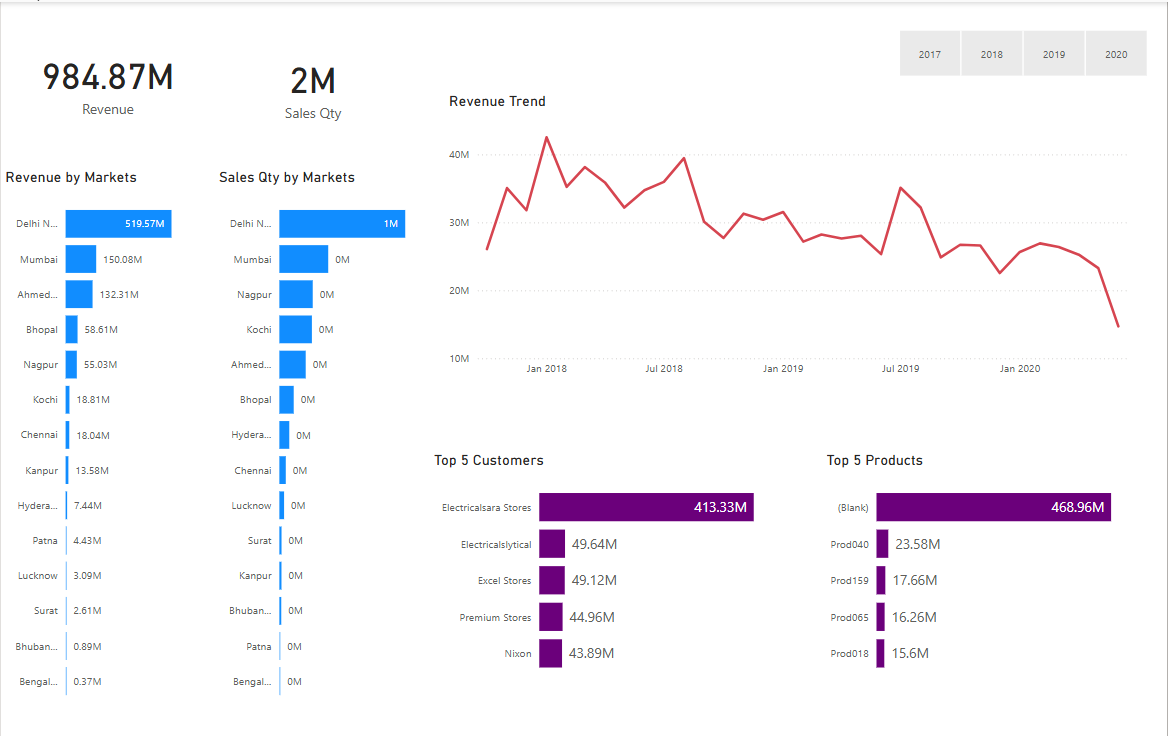

What the dashboard file says about the page in this screenshot:
{"tool":"powerbi","page":{"name":"Page 1","canvas":[1350,850],"ordinal":0},"visuals":[{"type":"card","fields":{"Values":["BaseMeasures (2).Revenue"]},"box":[0,0,247.9,184.6],"z":0},{"type":"card","fields":{"Values":["BaseMeasures (2).Sales Qty"]},"box":[247.9,0,227.9,193.1],"z":1000},{"type":"barChart","title":"Revenue by Markets","fields":{"Y":["BaseMeasures (2).Revenue"],"Category":["sales markets.markets_name"]},"box":[0,193.1,247.9,631.9],"z":2000},{"type":"barChart","title":"Sales Qty by Markets","fields":{"Y":["BaseMeasures (2).Sales Qty"],"Category":["sales markets.markets_name"]},"box":[247.9,193.1,247.9,631.9],"z":3000},{"type":"slicer","fields":{"Values":["sales date.year"]},"box":[483.2,0,335.5,66.5],"z":4000},{"type":"slicer","fields":{"Values":["sales date.cy_date"]},"box":[818.6,0,531.7,66.5],"z":5000},{"type":"barChart","title":"Top 5 Customers","fields":{"Y":["BaseMeasures (2).Revenue"],"Category":["sales customers.custmer_name"]},"box":[495.8,519,446.2,274.3],"z":6000},{"type":"barChart","title":"Top 5 Products","fields":{"Y":["BaseMeasures (2).Revenue"],"Category":["sales products.product_code"]},"box":[950.5,519,399.8,274.3],"z":7000},{"type":"lineChart","title":"Revenue Trend","fields":{"Y":["BaseMeasures (2).Revenue"],"Category":["sales date.cy_date"]},"box":[513.8,104.4,809.1,338.6],"z":8000}]}

Visuals, with their boxes in screenshot pixels (x1, y1, x2, y2), scaled from the page's 1350x850 canvas onto the 1168x736 screenshot:
card - BaseMeasures (2).Revenue: 0,0,214,160
card - BaseMeasures (2).Sales Qty: 214,0,412,167
"Revenue by Markets" barChart: 0,167,214,714
"Sales Qty by Markets" barChart: 214,167,429,714
slicer - sales date.year: 418,0,708,58
slicer - sales date.cy_date: 708,0,1167,58
"Top 5 Customers" barChart: 429,449,815,687
"Top 5 Products" barChart: 822,449,1167,687
"Revenue Trend" lineChart: 445,90,1145,384
